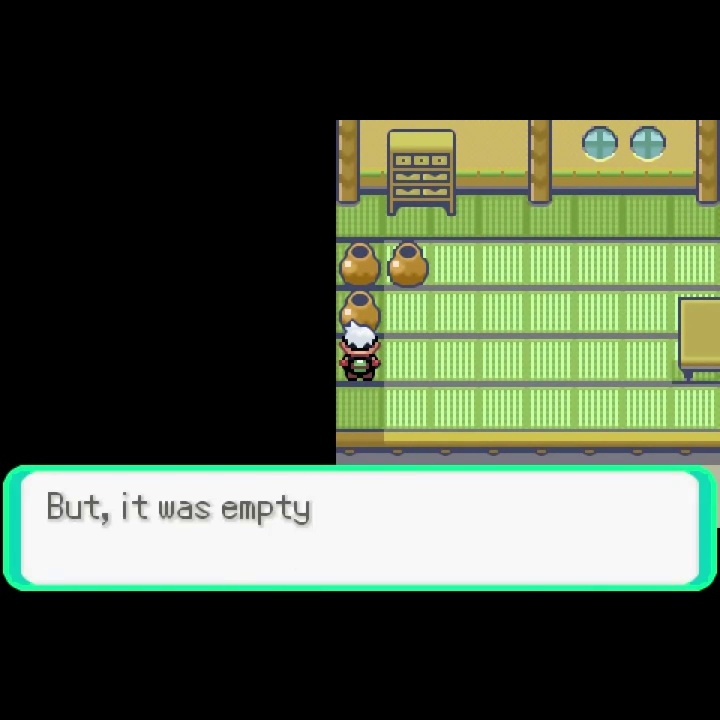agent: (337, 319, 382, 384)
